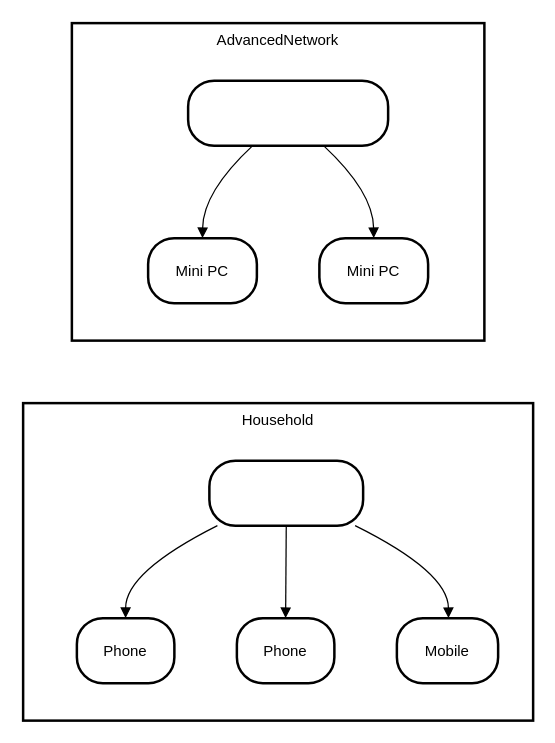
Image size: 555x743. Some labels were removed from this diagram. Each missing label, with the centre of its shape:
"Main Router" belongs at (286,492).
"OpenWRT Router" belongs at (287,112).
